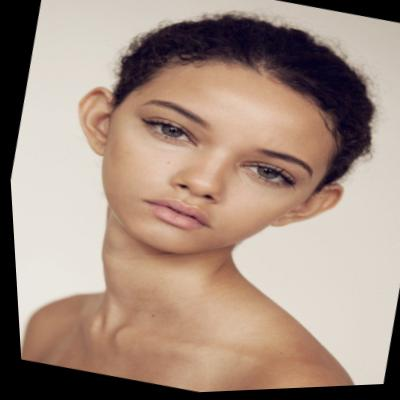netural: (74, 40, 349, 291)
